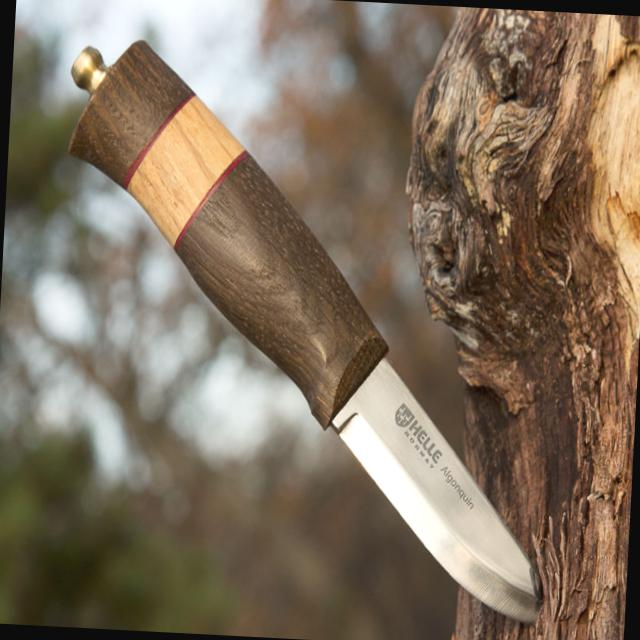knife: (287, 322, 571, 634)
